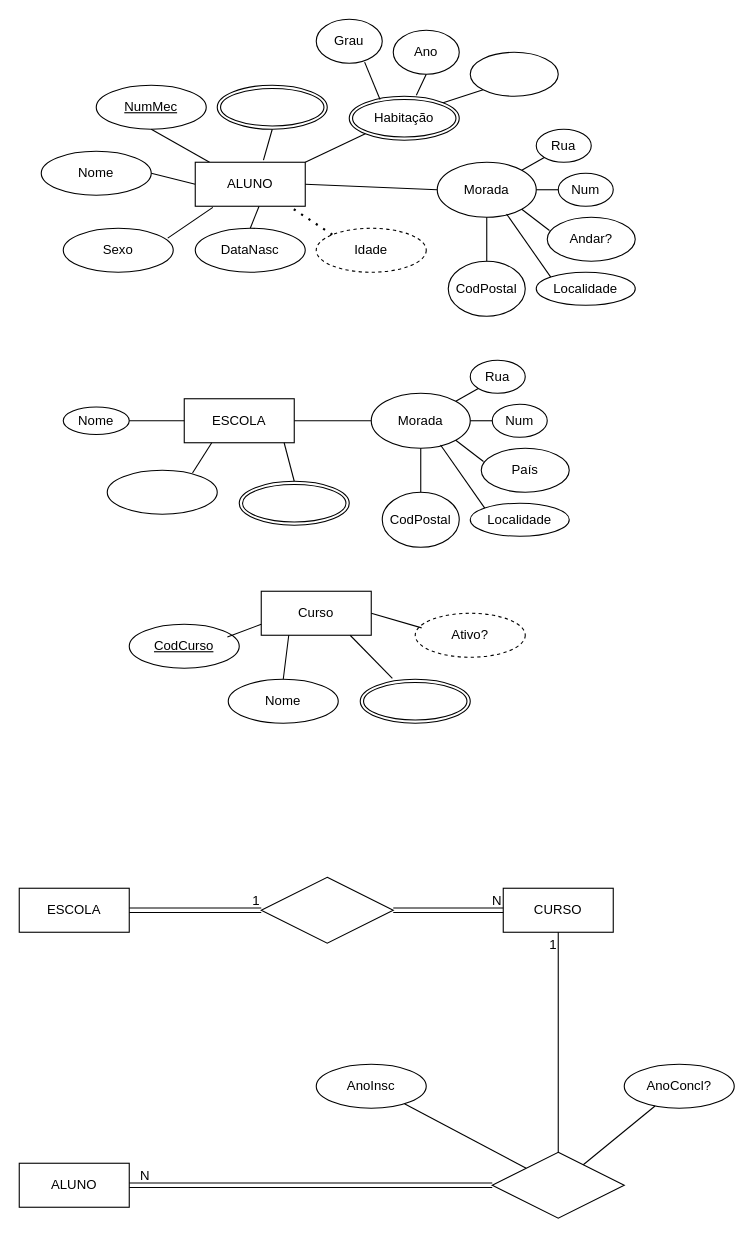
Image size: 754x1238. Some labels were removed from this diagram. Here are the shapes that lost their labels. From the top down, the box of each, then its label:
(469, 51, 558, 96): Instituição
(216, 84, 327, 129): NumTelef
(106, 469, 217, 514): CodEscola
(238, 480, 349, 525): Telefone
(359, 678, 470, 723): Disciplinas
(260, 876, 393, 943): LECCIONA
(491, 1151, 624, 1218): INSCRITO_EM
